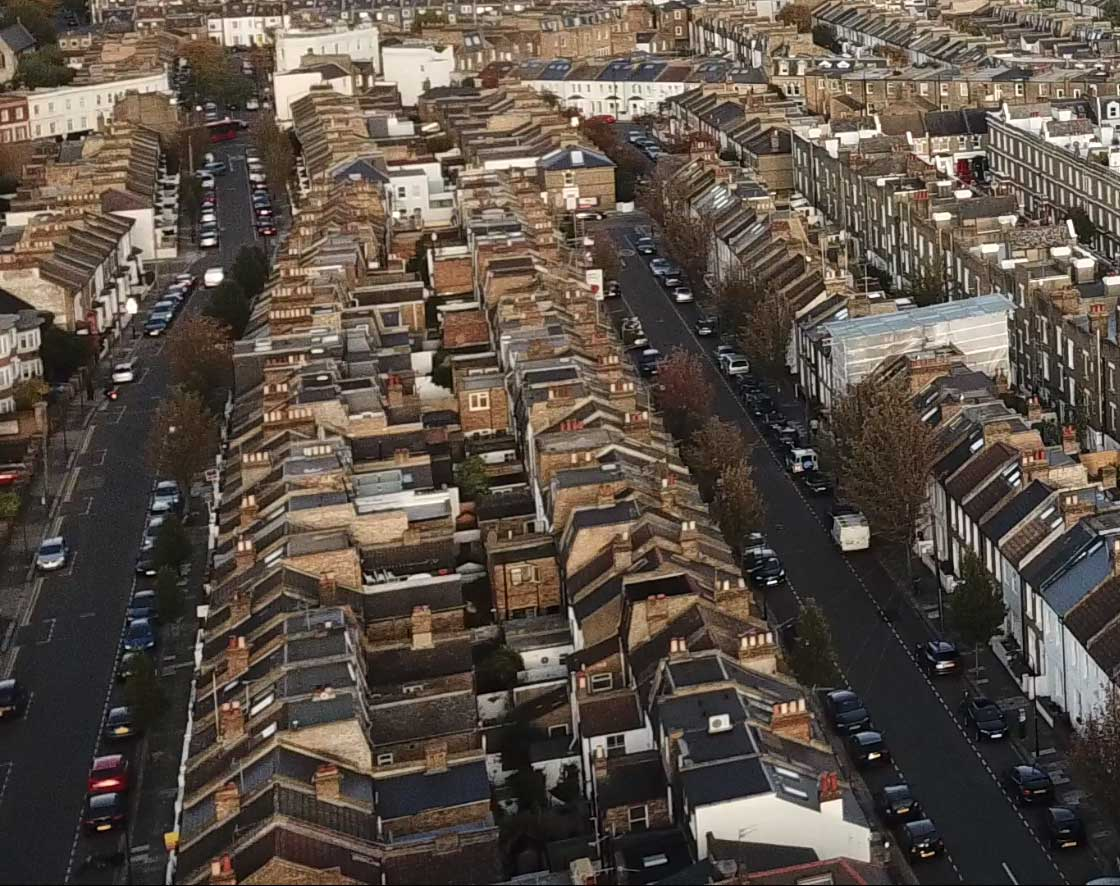car: (735, 527, 789, 591), (35, 536, 75, 575)
road: (819, 583, 972, 811), (57, 526, 138, 751), (204, 142, 259, 245)
tree: (807, 368, 950, 560), (139, 385, 233, 515), (657, 345, 713, 443)
